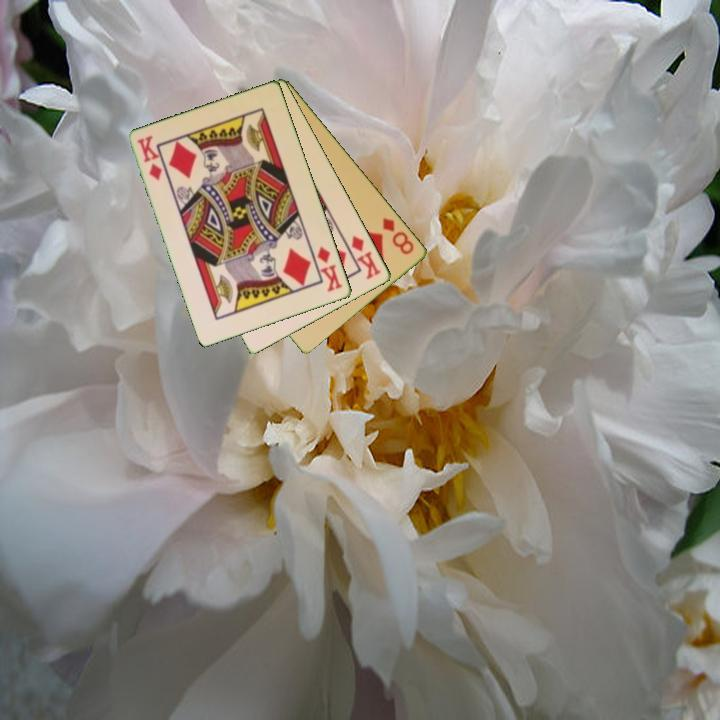8d: (379, 214, 417, 258)
Kd: (348, 232, 384, 282), (134, 132, 166, 184), (314, 243, 345, 295)
